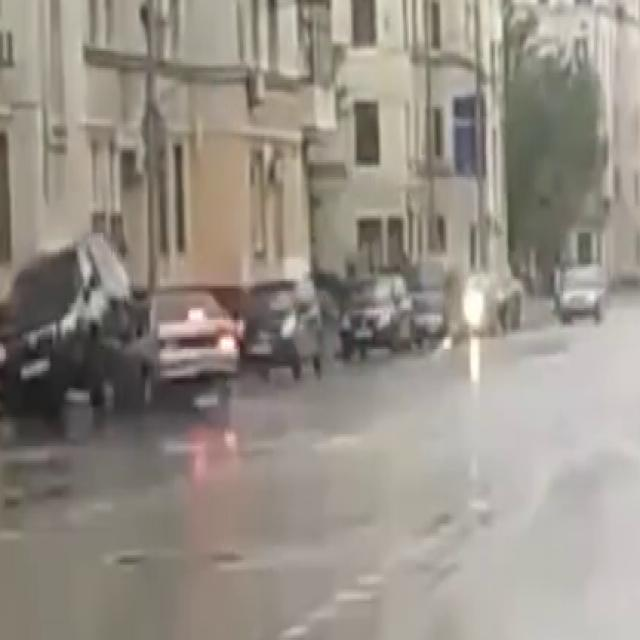accident: (16, 234, 228, 420)
